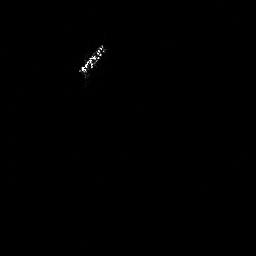ship: (75, 42, 109, 78)
